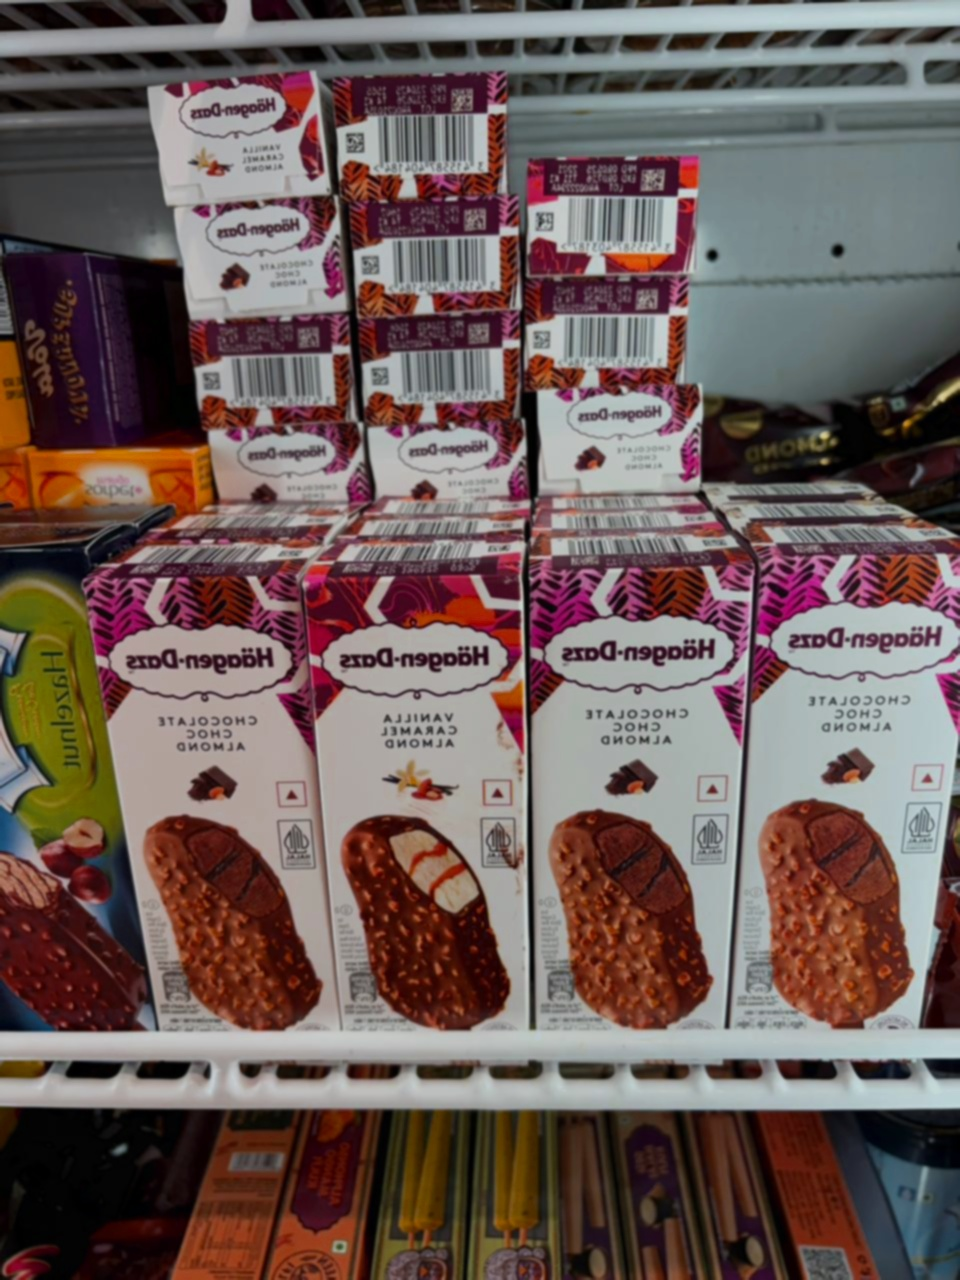Haagen-Dazs IceCream Bars: (85, 545, 352, 1041), (304, 539, 552, 1045), (726, 527, 958, 1041), (524, 530, 753, 1041), (350, 185, 524, 328), (340, 68, 519, 202), (138, 82, 341, 197), (171, 196, 350, 323), (523, 152, 710, 272), (528, 380, 710, 503), (364, 298, 528, 426), (524, 272, 690, 383), (204, 413, 366, 517), (194, 313, 354, 418), (371, 411, 536, 504)
